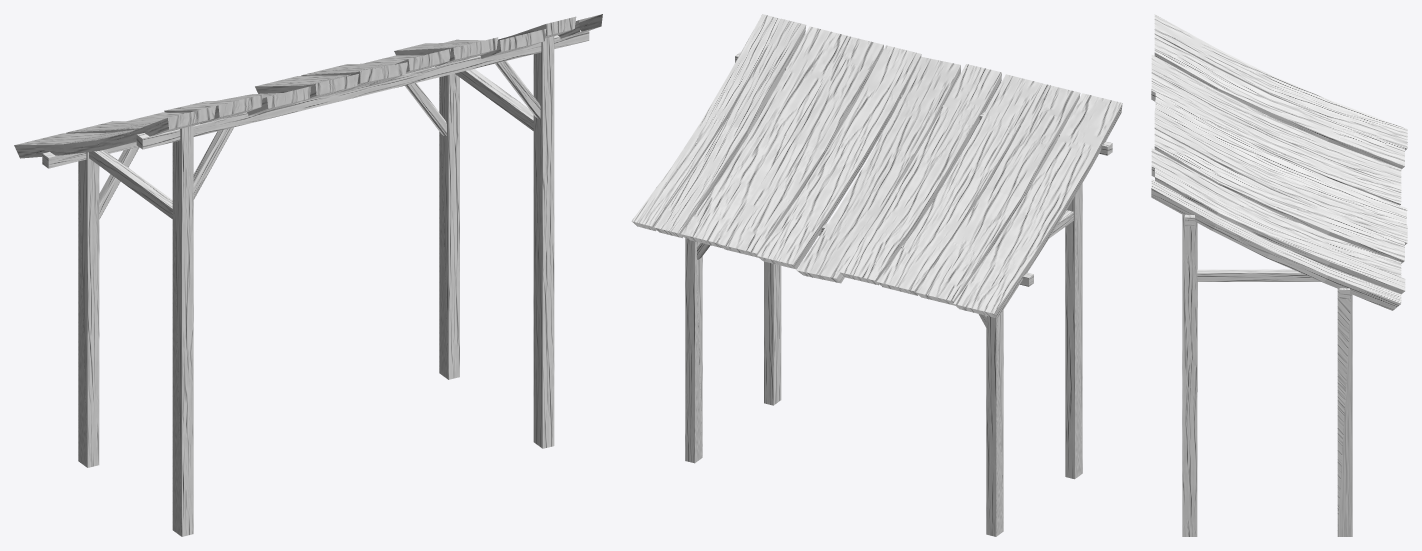
Rendered from ARC0110025.fbx.
The picture shows the model from 3 angles, left to right: view 1: azimuth 30°, elevation 25°; view 2: azimuth 150°, elevation 25°; view 3: azimuth 270°, elevation 25°; orthographic projection. The views are drawn at different scales.
Visible parts, largest first — view 1: smARC0110025; view 2: smARC0110025; view 3: smARC0110025.
Boxes of the visible parts, box(x1,y1,x2,y2) form: smARC0110025: box(14, 14, 602, 536); smARC0110025: box(631, 14, 1122, 536); smARC0110025: box(1151, 14, 1407, 536).
Size of what is drawn, in the model's own units: 460 by 434 by 278.
1 material, 1 textured.
